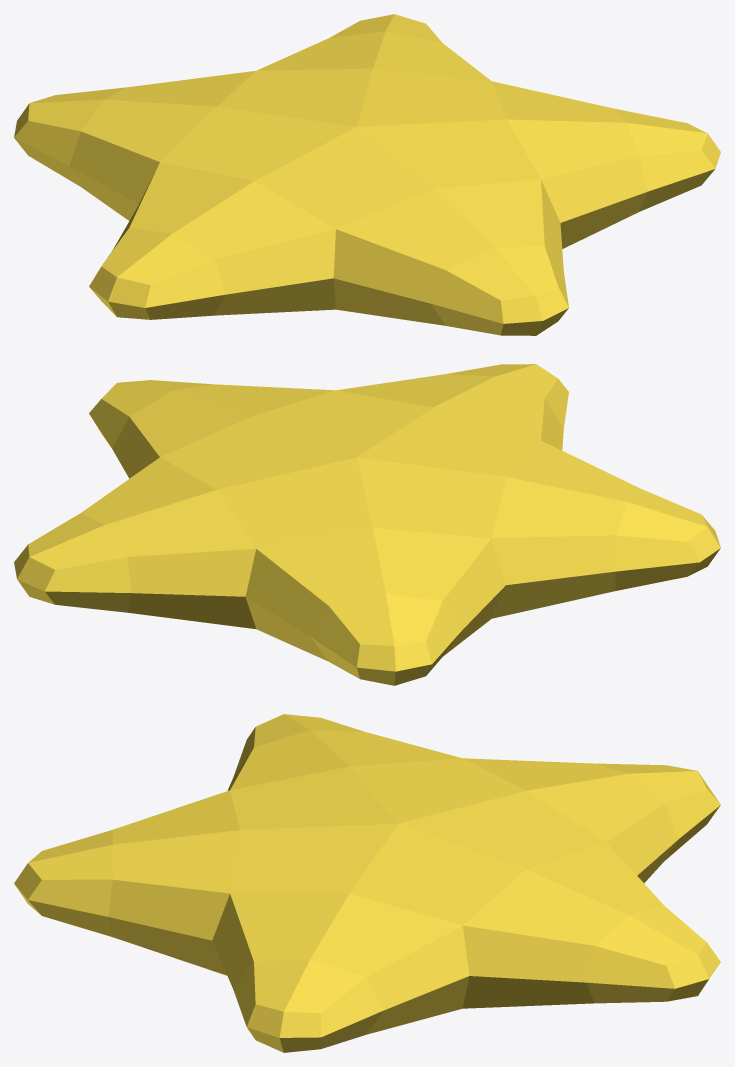
File: star.fbx
3 renders of one model, top to bottom at view 1: azimuth 30°, elevation 25°; view 2: azimuth 150°, elevation 25°; view 3: azimuth 270°, elevation 25°, orthographic. The views are drawn at different scales.
Visible parts, largest first — view 1: Star; view 2: Star; view 3: Star.
Part boxes in pixels (x1,y1,x2,y2): Star: (14, 14, 720, 335); Star: (14, 364, 720, 685); Star: (14, 714, 720, 1052).
Bounding box in the file's own units: 179 × 185 × 33.34.
